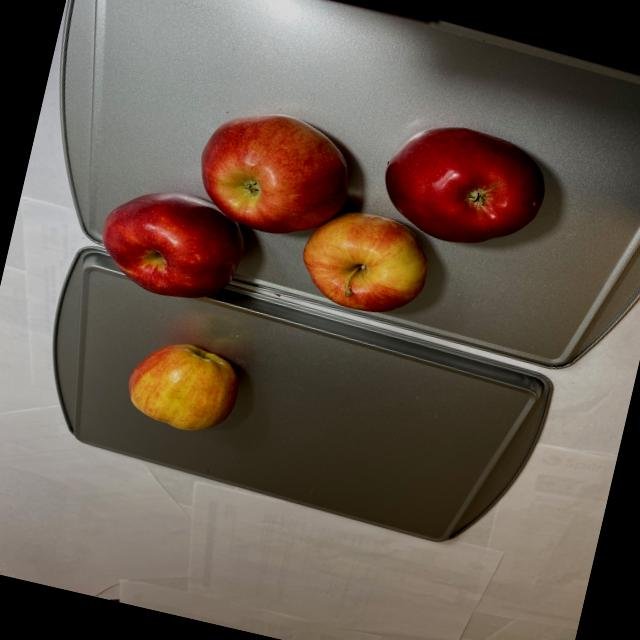apple: (93, 53, 561, 377), (118, 328, 250, 440)
